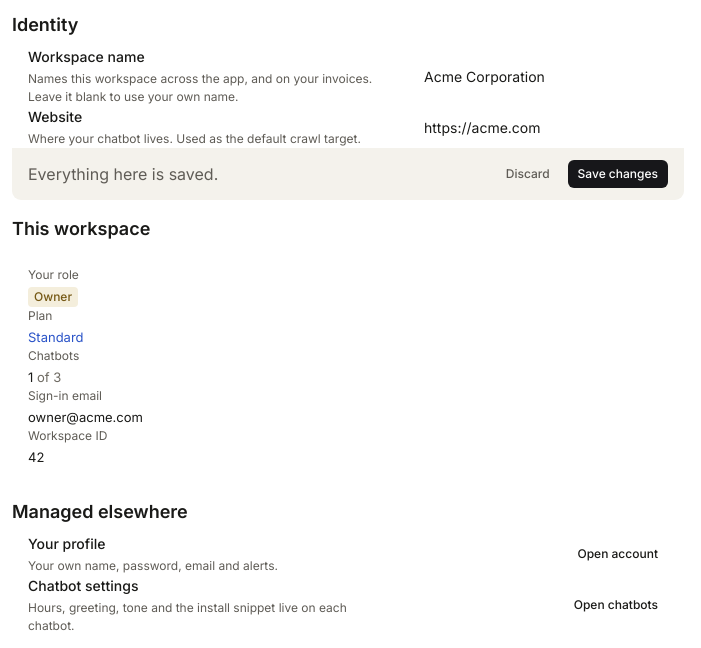
Test: GeneralPage — unsaved changes are visible and recoverable › says everything is saved until something is not
The width and height of the screenshot is (701, 648).
Expected: the text "Everything here is saved." is shown, [28,164,218,184]
Type " Ltd" into the field labelled "Workspace name" at (540,76), box [412,59,668,93]
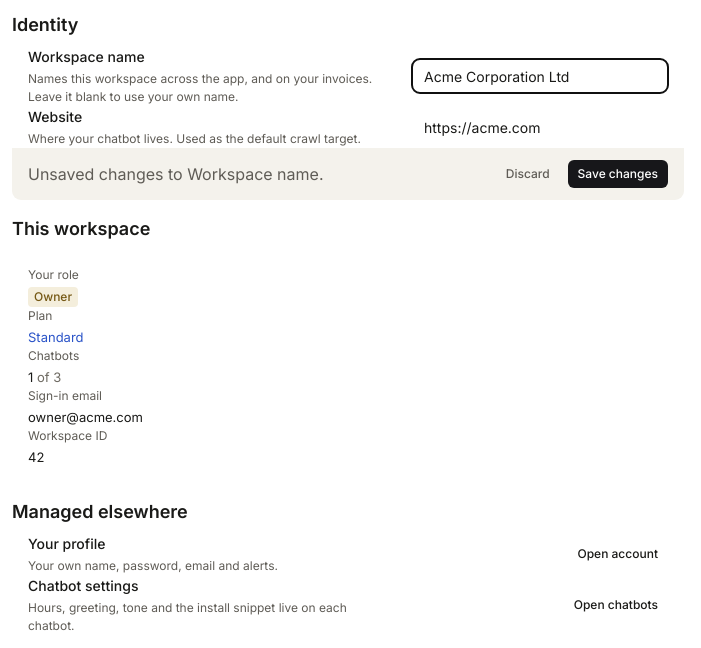
Result: the text "Unsaved changes to Workspace name." is shown at [28,164,324,184]
